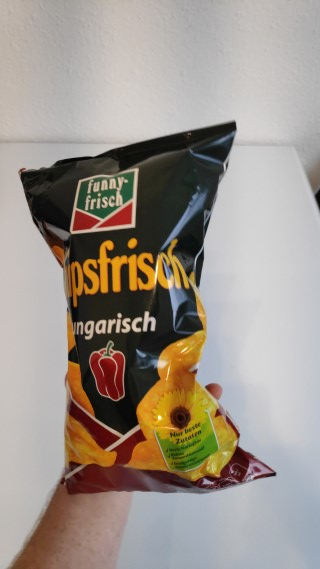chipsfrisch: (17, 118, 279, 493)
